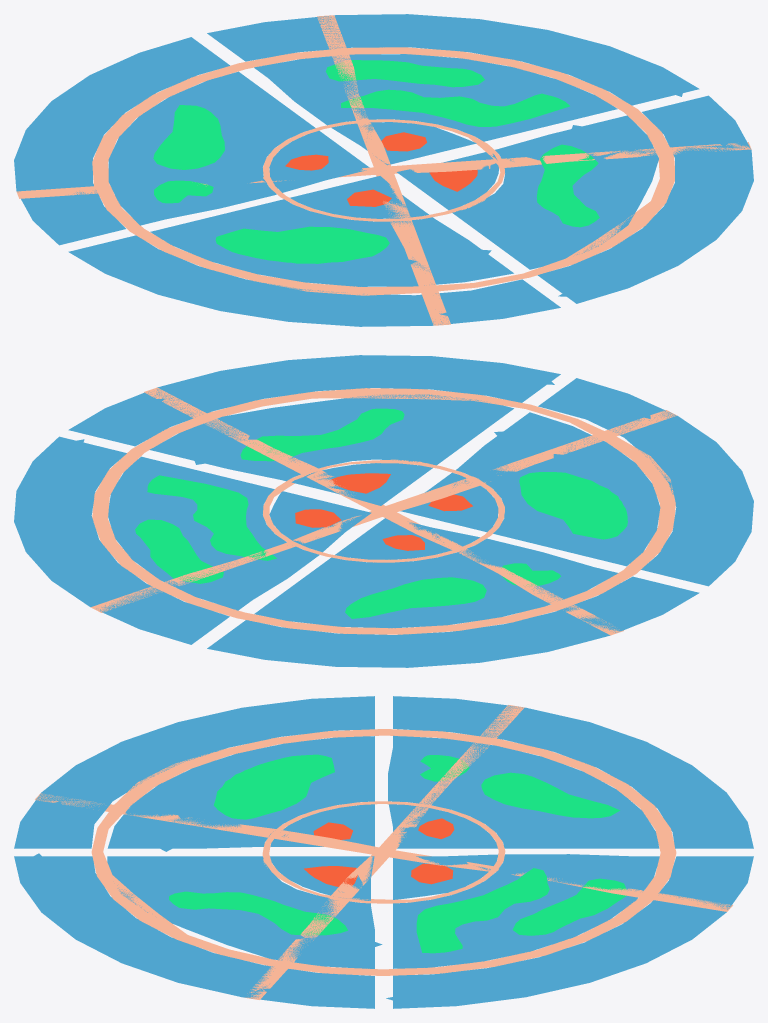
Rendered from arena.glb.
3 views of the same model, one above another, from view 1: azimuth 30°, elevation 25°; view 2: azimuth 150°, elevation 25°; view 3: azimuth 270°, elevation 25° (orthographic).
Visible parts, largest first — view 1: base, big round, base.007, base.002, base.008, base.001, base.003, base.009, base.005, base.004, base.006, base.010; view 2: base, big round, base.007, base.002, base.008, base.001, base.003, base.005, base.009, base.004, base.010; view 3: base, big round, base.007, base.002, base.008, base.001, base.003, base.009, base.005, base.004, base.010.
Boxes of the visible parts, <box> form: base: <box>14,14,753,326</box>; big round: <box>16,15,751,325</box>; base.007: <box>215,226,389,263</box>; base.002: <box>341,89,569,126</box>; base.008: <box>153,105,224,169</box>; base.001: <box>536,144,599,227</box>; base.003: <box>325,60,484,87</box>; base.009: <box>154,180,213,203</box>; base.005: <box>429,170,477,191</box>; base.004: <box>381,132,426,151</box>; base.006: <box>347,189,391,206</box>; base.010: <box>285,154,328,170</box>; base: <box>14,355,753,667</box>; big round: <box>91,387,676,635</box>; base.007: <box>519,472,627,539</box>; base.002: <box>147,475,276,560</box>; base.008: <box>345,577,486,618</box>; base.001: <box>240,408,404,461</box>; base.003: <box>135,519,223,583</box>; base.005: <box>329,473,390,493</box>; base.009: <box>501,563,560,585</box>; base.004: <box>295,509,341,527</box>; base.010: <box>382,535,424,550</box>; base: <box>14,696,753,1008</box>; big round: <box>35,705,732,999</box>; base.007: <box>213,754,334,819</box>; base.002: <box>416,868,549,953</box>; base.008: <box>481,772,619,818</box>; base.001: <box>169,891,347,935</box>; base.003: <box>512,878,626,935</box>; base.009: <box>420,755,469,781</box>; base.005: <box>304,866,357,886</box>; base.004: <box>411,863,453,884</box>; base.010: <box>418,818,454,839</box>.
Size of the model in its own units: 10.97 by 0 by 10.97.
